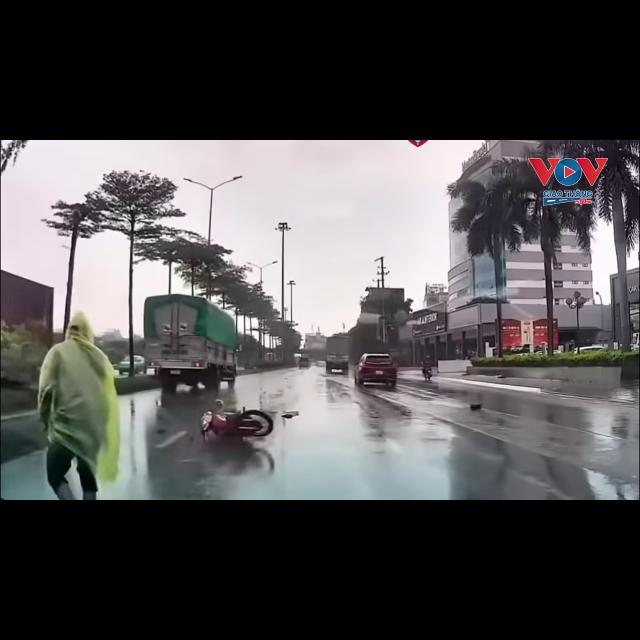car: (354, 354, 397, 387), (574, 345, 606, 353), (134, 355, 146, 373), (298, 357, 310, 368)
motorcycle: (201, 409, 273, 440), (422, 365, 432, 380)
truck: (144, 294, 237, 391), (326, 336, 349, 373)
